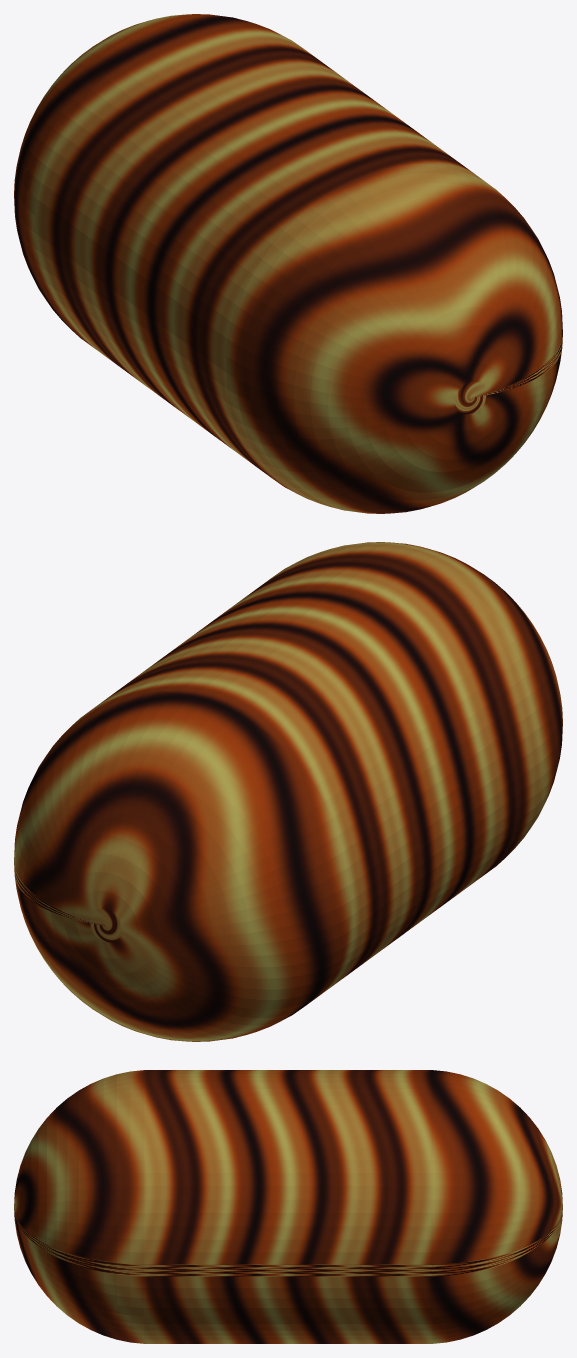
The model's file is capsule-sunset.glb.
The picture shows the model from 3 angles, top to bottom: view 1: azimuth 30°, elevation 25°; view 2: azimuth 150°, elevation 25°; view 3: azimuth 270°, elevation 25°; orthographic projection. The views are drawn at different scales.
Parts seen in each view (by area): view 1: world; view 2: world; view 3: world.
Boxes of the visible parts, <box> form: world: <box>14,14,562,513</box>; world: <box>14,542,562,1041</box>; world: <box>14,1070,562,1343</box>.
Size of the model in its own units: 0.6991 by 0.6991 by 1.4.
Materials: 1 (1 with a texture image).
